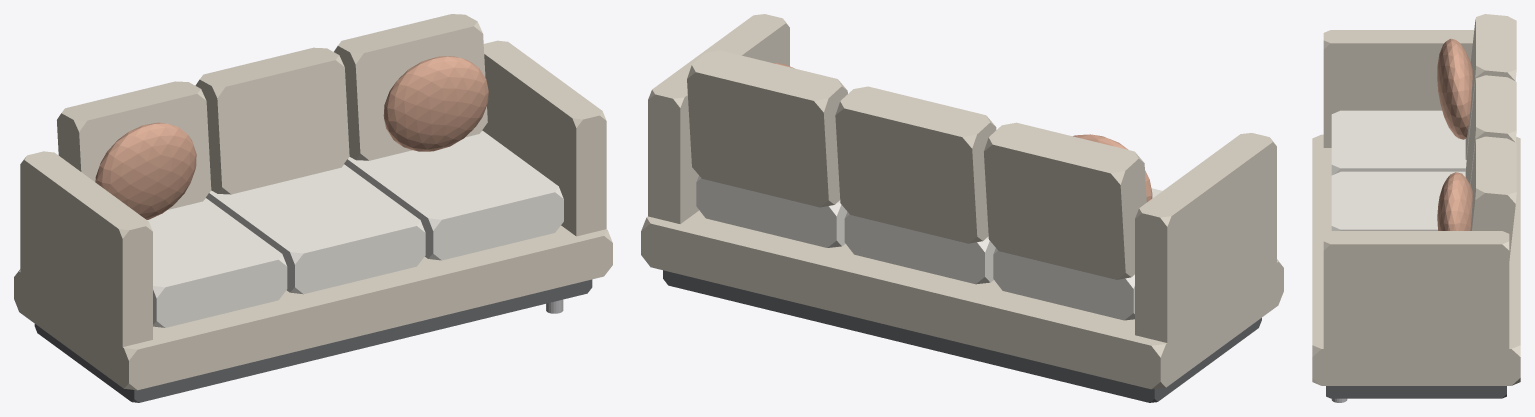
The model's file is sofa_medium.glb.
The picture shows the model from 3 angles, left to right: view 1: azimuth 30°, elevation 25°; view 2: azimuth 150°, elevation 25°; view 3: azimuth 270°, elevation 25°; orthographic projection. The views are drawn at different scales.
Parts seen in each view (by area): view 1: FABRIC_MAIN_base, FABRIC_MAIN_arm_L, FABRIC_MAIN_back_1, FABRIC_LIGHT_seat_1, FABRIC_LIGHT_seat_2, FABRIC_MAIN_arm_R, FABRIC_LIGHT_seat_0, FABRIC_MAIN_back_2, FABRIC_MAIN_back_0, FABRIC_ACCENT2_pillow_R, DARK_shadow_plinth, FABRIC_ACCENT_pillow_L; view 2: FABRIC_MAIN_base, FABRIC_MAIN_arm_L, FABRIC_MAIN_back_0, FABRIC_MAIN_back_1, FABRIC_MAIN_back_2, FABRIC_MAIN_arm_R, DARK_shadow_plinth, FABRIC_LIGHT_seat_1, FABRIC_LIGHT_seat_2, FABRIC_LIGHT_seat_0; view 3: FABRIC_MAIN_arm_R, FABRIC_MAIN_base, FABRIC_MAIN_arm_L, FABRIC_LIGHT_seat_0, FABRIC_LIGHT_seat_1, FABRIC_MAIN_back_2, FABRIC_MAIN_back_1, FABRIC_MAIN_back_0, FABRIC_ACCENT_pillow_L, DARK_shadow_plinth, FABRIC_ACCENT2_pillow_R.
Part boxes in pixels (x1,y1,x2,y2): FABRIC_MAIN_base: [14, 225, 612, 390]; FABRIC_MAIN_arm_L: [20, 151, 152, 364]; FABRIC_MAIN_back_1: [195, 47, 349, 194]; FABRIC_LIGHT_seat_1: [206, 164, 425, 294]; FABRIC_LIGHT_seat_2: [344, 130, 563, 260]; FABRIC_MAIN_arm_R: [482, 40, 606, 236]; FABRIC_LIGHT_seat_0: [147, 198, 287, 327]; FABRIC_MAIN_back_2: [334, 14, 487, 160]; FABRIC_MAIN_back_0: [57, 81, 211, 209]; FABRIC_ACCENT2_pillow_R: [383, 56, 488, 151]; DARK_shadow_plinth: [34, 279, 592, 402]; FABRIC_ACCENT_pillow_L: [95, 122, 196, 219]; FABRIC_MAIN_base: [641, 210, 1283, 389]; FABRIC_MAIN_arm_L: [1135, 133, 1276, 342]; FABRIC_MAIN_back_0: [984, 122, 1146, 279]; FABRIC_MAIN_back_1: [835, 86, 996, 243]; FABRIC_MAIN_back_2: [687, 50, 847, 207]; FABRIC_MAIN_arm_R: [648, 14, 789, 223]; DARK_shadow_plinth: [663, 270, 1261, 402]; FABRIC_LIGHT_seat_1: [844, 212, 995, 284]; FABRIC_LIGHT_seat_2: [696, 175, 847, 247]; FABRIC_LIGHT_seat_0: [993, 188, 1162, 320]; FABRIC_MAIN_arm_R: [1323, 231, 1509, 367]; FABRIC_MAIN_base: [1312, 134, 1520, 385]; FABRIC_MAIN_arm_L: [1323, 30, 1474, 147]; FABRIC_LIGHT_seat_0: [1331, 110, 1466, 175]; FABRIC_LIGHT_seat_1: [1331, 171, 1465, 230]; FABRIC_MAIN_back_2: [1470, 136, 1516, 260]; FABRIC_MAIN_back_1: [1465, 75, 1516, 184]; FABRIC_MAIN_back_0: [1465, 14, 1516, 159]; FABRIC_ACCENT_pillow_L: [1437, 38, 1472, 139]; DARK_shadow_plinth: [1326, 386, 1506, 398]; FABRIC_ACCENT2_pillow_R: [1437, 172, 1472, 230].
Size of the model in its own units: 2.24 by 1.02 by 0.92.
